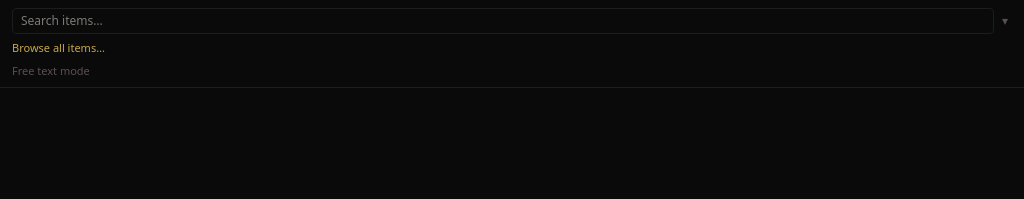
Test case: GearSlot › clicking × returns to empty state and writes cleared slot to store
Note: Select an item first
Type "Iron" into the dropdown with placeholder "Search items…" at [503, 21], box [12,8,994,34]
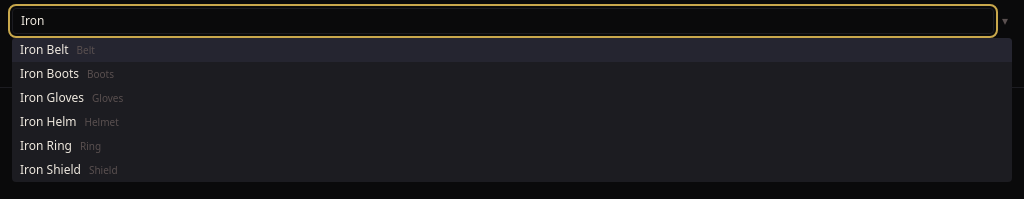
Result: the text "Iron Helm" is shown
Click the text "Iron Helm" at [48, 122], box [20,113,77,130]
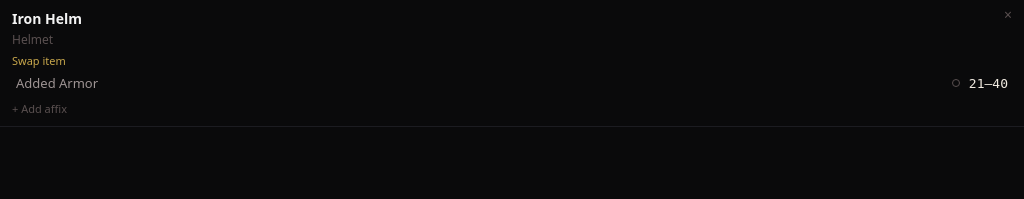
Result: the button named "Clear Helmet" is shown
Note: Clear it
Click the button named "Clear Helmet" at [1008, 15], box [1004,8,1012,22]
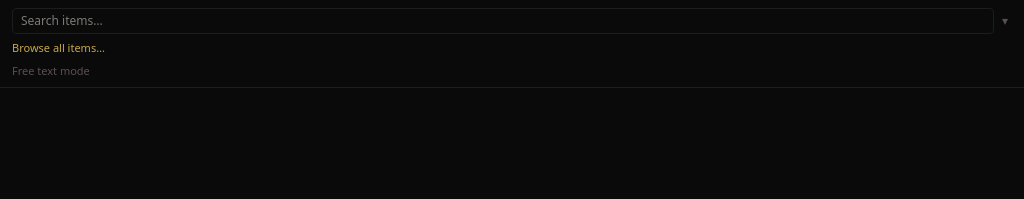
Result: the dropdown with placeholder "Search items…" is shown at [12,8,994,34]
